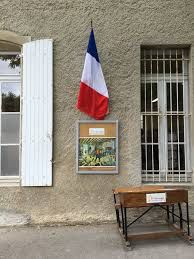French Flag: (75, 28, 111, 120)
